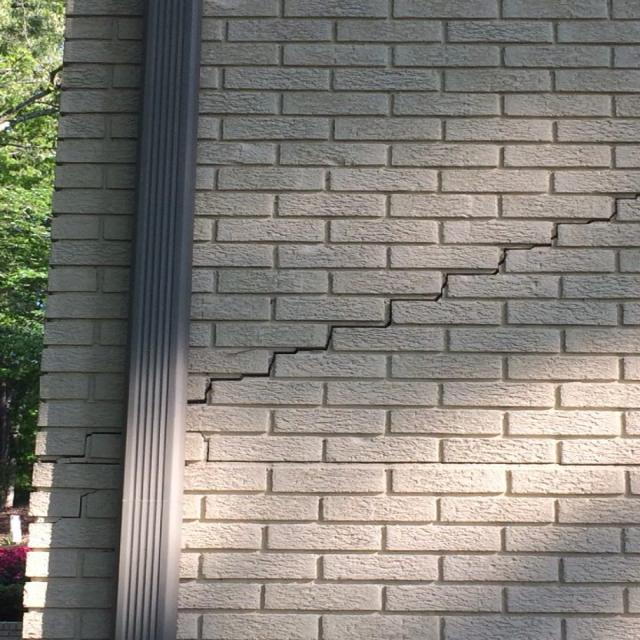Crack: (186, 195, 639, 407), (36, 430, 125, 466), (29, 487, 98, 525)
